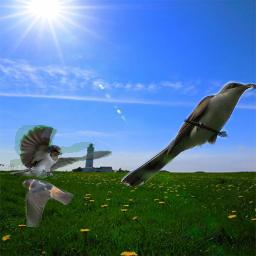Cuckoo: (121, 80, 256, 186)
Swallow: (10, 125, 112, 179), (22, 177, 75, 227)
